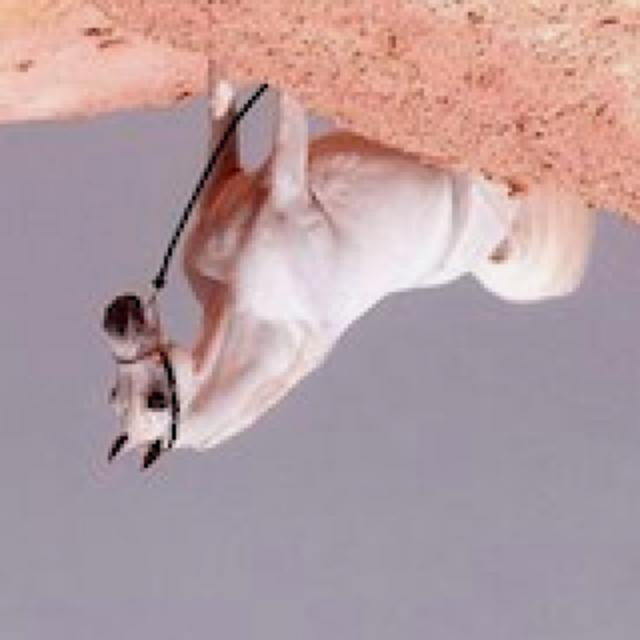Horse: (92, 64, 604, 480)
